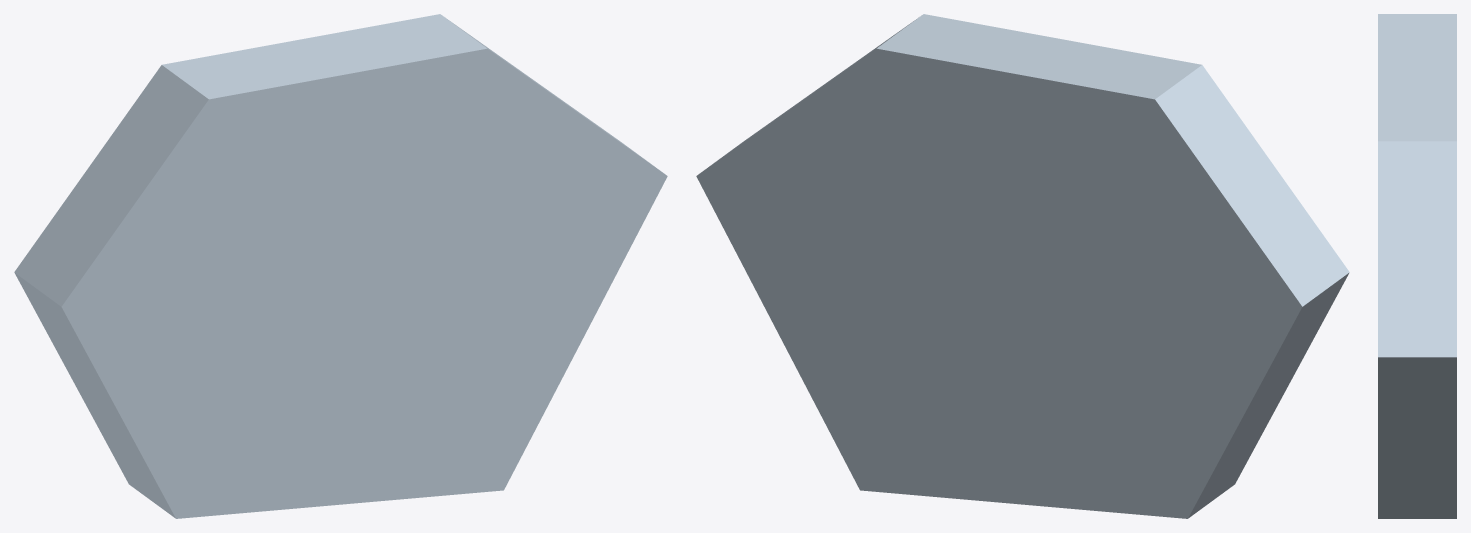
The model's file is Fischl_OzAttack_Overall_OzWingPalm-1.fbx.
3 views of the same model, side by side, from view 1: azimuth 30°, elevation 25°; view 2: azimuth 150°, elevation 25°; view 3: azimuth 270°, elevation 25° (orthographic). The views are drawn at different scales.
Visible parts, largest first — view 1: PART_OzWingPalm_-1; view 2: PART_OzWingPalm_-1; view 3: PART_OzWingPalm_-1.
Boxes of the visible parts, <box> form: PART_OzWingPalm_-1: <box>14,14,667,518</box>; PART_OzWingPalm_-1: <box>696,14,1349,518</box>; PART_OzWingPalm_-1: <box>1378,14,1456,518</box>.
Bounding box in the file's own units: 37 × 27 × 5.
